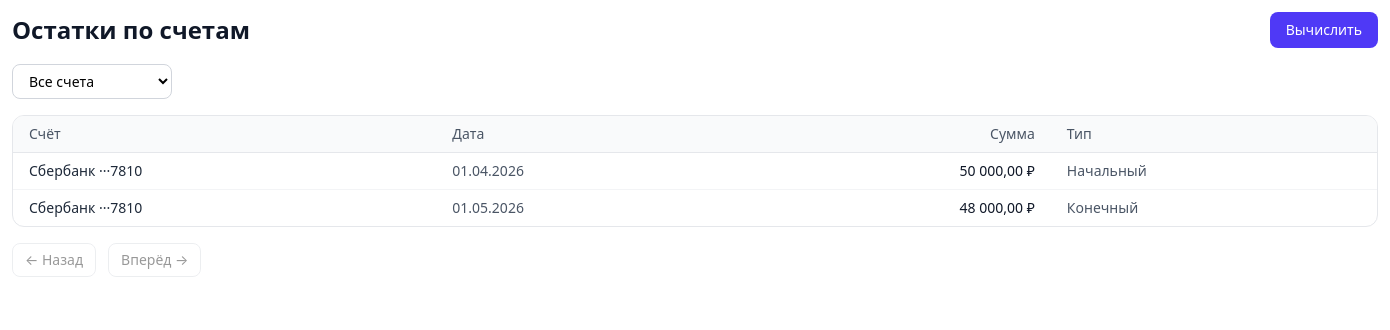
Test: Balances page › shows success message after calculation
Click the button "Вычислить" at (1324, 30), box [1270,12,1378,48]
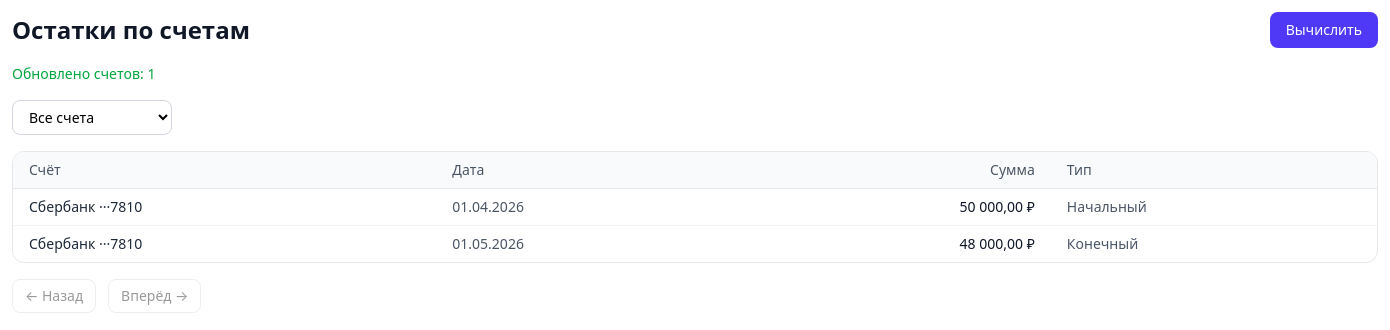
Expected: the text "Обновлено счетов: 1" is shown, [12,64,156,83]
